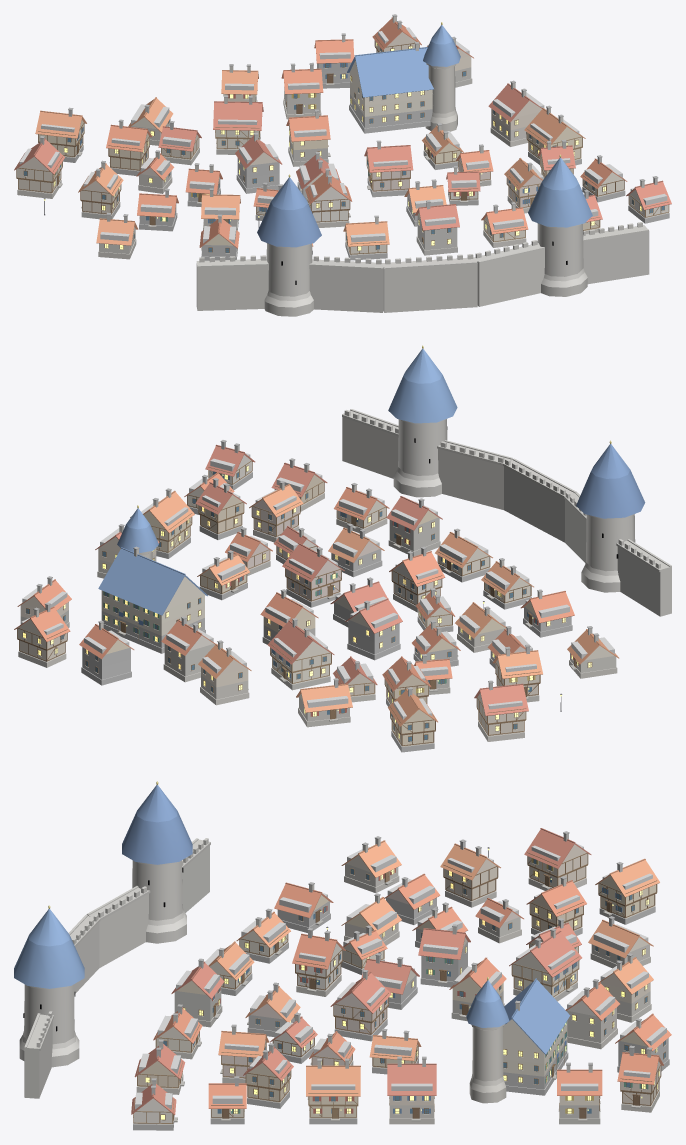
The model's file is struct_7_9.glb.
3 renders of one model, top to bottom at view 1: azimuth 30°, elevation 25°; view 2: azimuth 150°, elevation 25°; view 3: azimuth 270°, elevation 25°, orthographic. The views are drawn at different scales.
Parts seen in each view (by area): view 1: HousesNear, Landmarks, Occluder-occonly, HousesFar; view 2: HousesNear, Landmarks, Occluder-occonly, HousesFar; view 3: HousesNear, Landmarks, Occluder-occonly, HousesFar.
Part boxes in pixels (bbox=[...]): HousesNear: bbox=[14, 17, 671, 260]; Landmarks: bbox=[43, 22, 649, 316]; Occluder-occonly: bbox=[19, 27, 667, 243]; HousesFar: bbox=[59, 14, 645, 223]; HousesNear: bbox=[14, 440, 619, 752]; Landmarks: bbox=[98, 345, 671, 711]; Occluder-occonly: bbox=[21, 453, 614, 719]; HousesFar: bbox=[33, 443, 599, 714]; HousesNear: bbox=[131, 828, 671, 1130]; Landmarks: bbox=[14, 781, 570, 1103]; Occluder-occonly: bbox=[135, 843, 666, 1109]; HousesFar: bbox=[151, 836, 652, 1113].
Size of the model in its own units: 124 by 32.79 by 131.
